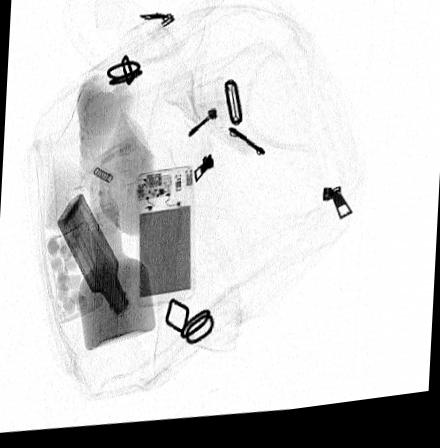Powerbank: (133, 170, 195, 314)
